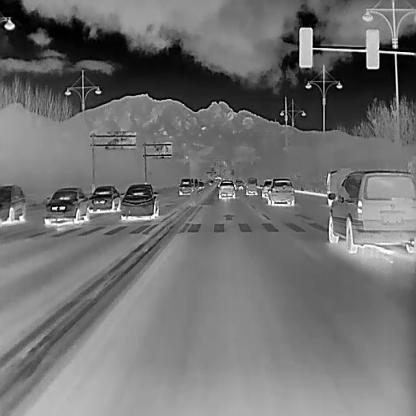car: (328, 168, 416, 253), (42, 186, 89, 224), (119, 182, 159, 219), (0, 182, 25, 223), (89, 184, 120, 212), (268, 178, 294, 205), (216, 179, 235, 199), (259, 178, 273, 197), (178, 178, 191, 195), (245, 177, 257, 194), (235, 180, 242, 190), (197, 180, 203, 190), (208, 179, 213, 184)
truck: (324, 168, 352, 206)
